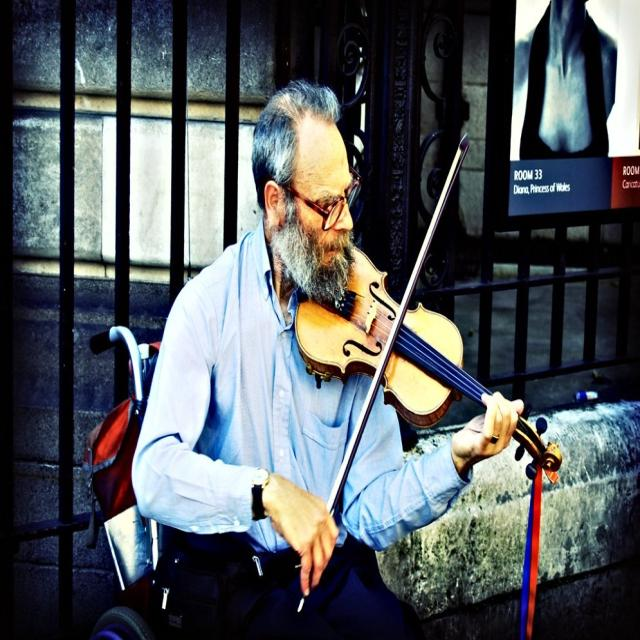violin: (293, 242, 562, 473)
